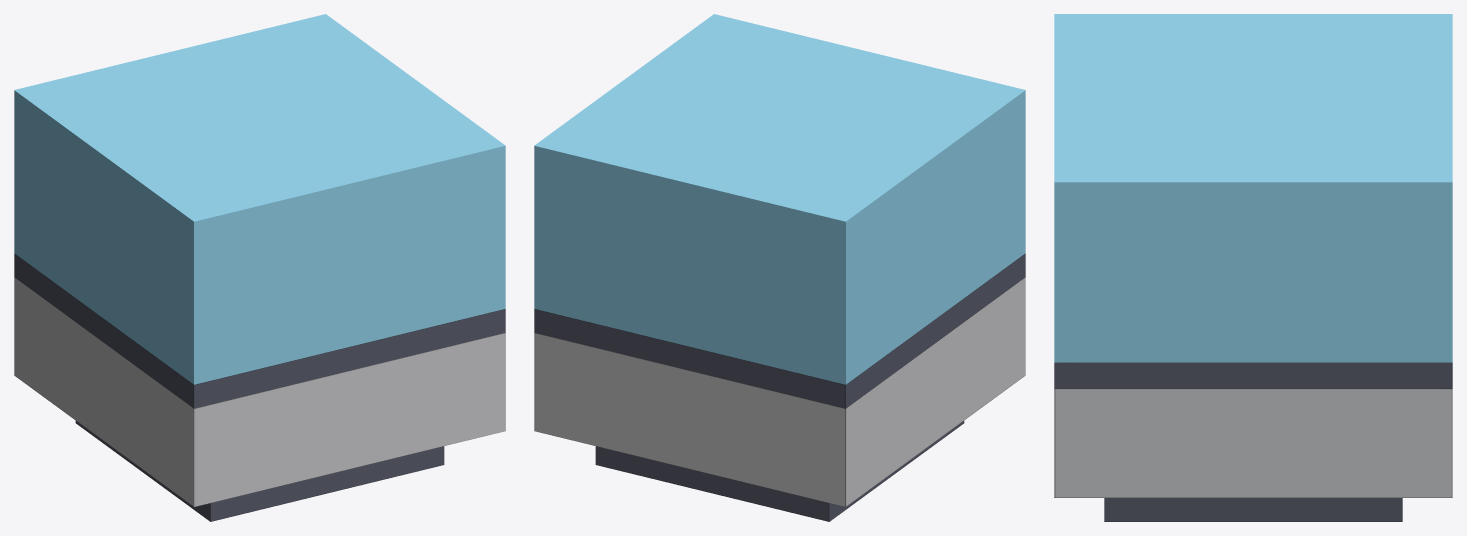
File: Stand_03.FBX
The picture shows the model from 3 angles, left to right: view 1: azimuth 30°, elevation 25°; view 2: azimuth 150°, elevation 25°; view 3: azimuth 270°, elevation 25°; orthographic projection. The views are drawn at different scales.
Visible parts, largest first — view 1: Stand_03; view 2: Stand_03; view 3: Stand_03.
Boxes of the visible parts, <box> form: Stand_03: <box>14,14,505,521</box>; Stand_03: <box>534,14,1025,521</box>; Stand_03: <box>1054,14,1452,521</box>.
Bounding box in the file's own units: 2 × 2 × 2.
Materials: 2 (1 with a texture image).
